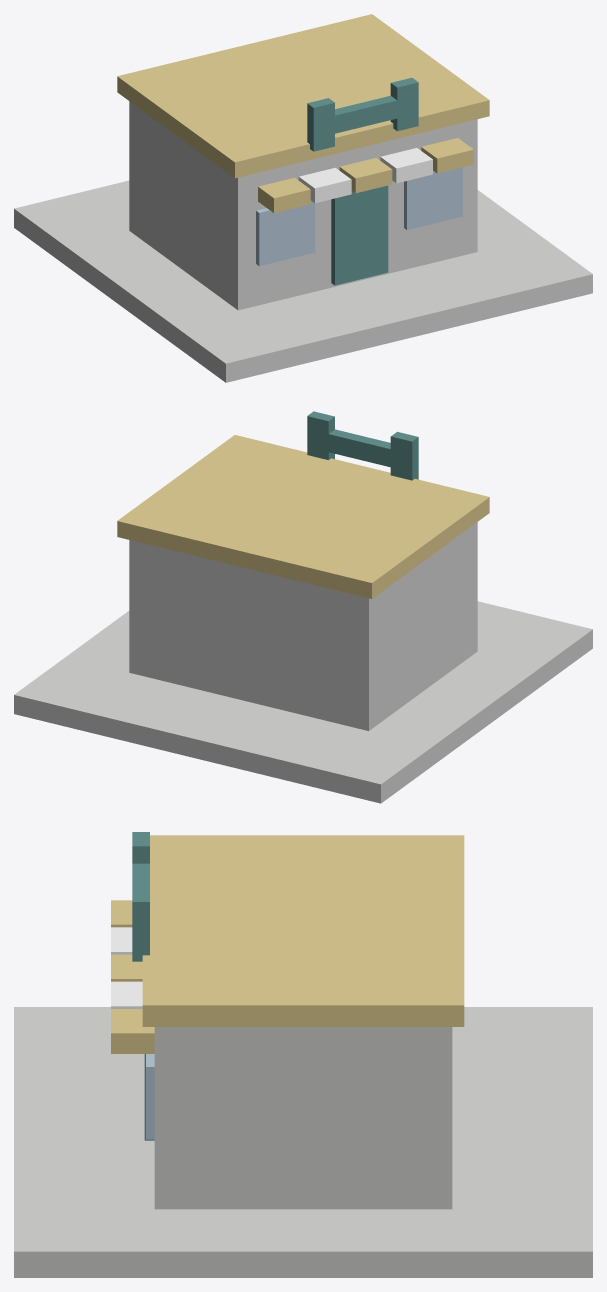
File: pet-store.gltf
3 views of the same model, one above another, from view 1: azimuth 30°, elevation 25°; view 2: azimuth 150°, elevation 25°; view 3: azimuth 270°, elevation 25° (orthographic). The views are drawn at different scales.
Parts seen in each view (by area): view 1: pet-store_0, pet-store_2, pet-store_1, pet-store_3, pet-store_4, pet-store_5, pet-store_11, pet-store_6, pet-store_7, pet-store_8, pet-store_9, pet-store_10 (+3 smaller); view 2: pet-store_1, pet-store_0, pet-store_2, pet-store_11, pet-store_12, pet-store_14, pet-store_13; view 3: pet-store_0, pet-store_2, pet-store_1, pet-store_10, pet-store_9, pet-store_14, pet-store_8, pet-store_5, pet-store_7, pet-store_6, pet-store_12.
Part boxes in pixels (box(x1,y1,x2,y2)): pet-store_0: box(14, 180, 592, 382); pet-store_2: box(117, 14, 489, 178); pet-store_1: box(129, 101, 477, 310); pet-store_3: box(331, 185, 388, 285); pet-store_4: box(256, 200, 315, 266); pet-store_5: box(404, 167, 462, 229); pet-store_11: box(323, 95, 409, 136); pet-store_6: box(258, 177, 310, 213); pet-store_7: box(298, 167, 351, 203); pet-store_8: box(339, 158, 392, 193); pet-store_9: box(380, 148, 432, 183); pet-store_10: box(421, 138, 473, 173); pet-store_1: box(129, 522, 477, 730); pet-store_0: box(14, 601, 592, 803); pet-store_2: box(117, 435, 489, 598); pet-store_11: box(316, 429, 402, 470); pet-store_12: box(390, 431, 418, 463); pet-store_14: box(307, 411, 334, 440); pet-store_13: box(390, 458, 418, 480); pet-store_0: box(14, 1007, 592, 1277); pet-store_2: box(142, 835, 464, 1026); pet-store_1: box(154, 1027, 452, 1209); pet-store_10: box(111, 1009, 154, 1053); pet-store_9: box(111, 981, 142, 1008); pet-store_14: box(132, 887, 149, 932); pet-store_8: box(111, 954, 142, 981); pet-store_5: box(146, 1054, 154, 1139); pet-store_7: box(111, 927, 132, 954); pet-store_6: box(111, 900, 132, 927); pet-store_12: box(132, 832, 149, 863).
Bounding box in the file's own units: 7.2 × 3.96 × 7.2.
